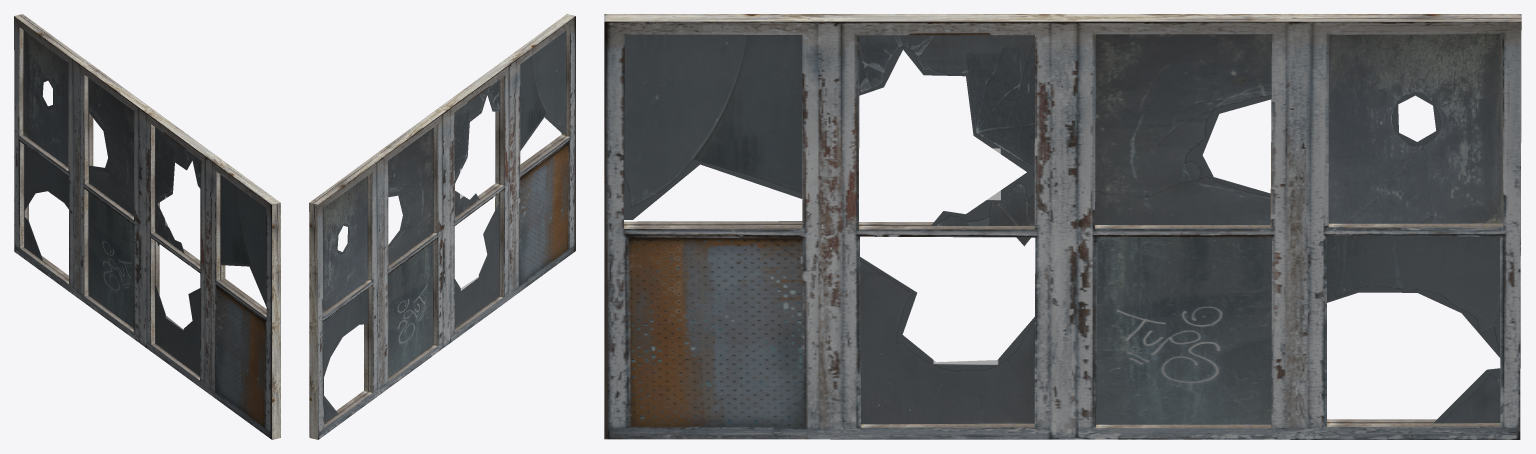
File: Windows_Porch_02.fbx
3 views of the same model, side by side, from view 1: azimuth 30°, elevation 25°; view 2: azimuth 150°, elevation 25°; view 3: azimuth 270°, elevation 25° (orthographic). The views are drawn at different scales.
Parts seen in each view (by area): view 1: Windows_Porch_02, Windows_Porch_02glass (×8); view 2: Windows_Porch_02, Windows_Porch_02glass (×7); view 3: Windows_Porch_02glass (×8), Windows_Porch_02.
Part boxes in pixels (bbox=[...]): Windows_Porch_02: bbox=[14, 14, 280, 439]; Windows_Porch_02glass (×8): bbox=[23, 30, 266, 375]; Windows_Porch_02: bbox=[309, 14, 575, 439]; Windows_Porch_02glass (×7): bbox=[323, 31, 565, 377]; Windows_Porch_02glass (×8): bbox=[624, 34, 1503, 424]; Windows_Porch_02: bbox=[604, 14, 1521, 439].
Bounding box in the file's own units: 5.07 × 258 × 130.
2 materials, 2 textured.
